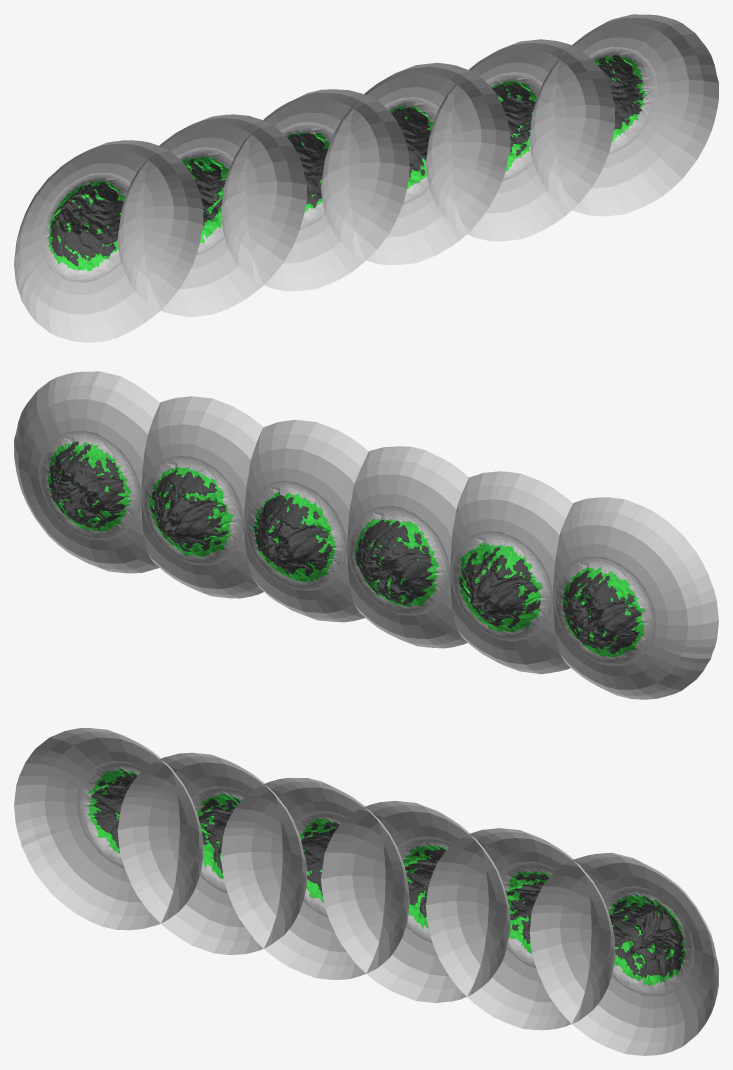
File: Islands 3 (LOD 1).fbx
3 renders of one model, top to bottom at view 1: azimuth 30°, elevation 25°; view 2: azimuth 150°, elevation 25°; view 3: azimuth 330°, elevation 25°, orthographic.
Visible parts, largest first — view 1: Volcano (LOD 1) 2, Volcano (LOD 1) 6, Volcano (LOD 1) 1, Volcano (LOD 1) 3, Volcano (LOD 1) 5, Volcano (LOD 1) 4; view 2: Volcano (LOD 1) 2, Volcano (LOD 1) 6, Volcano (LOD 1) 1, Volcano (LOD 1) 3, Volcano (LOD 1) 5, Volcano (LOD 1) 4; view 3: Volcano (LOD 1) 6, Volcano (LOD 1) 2, Volcano (LOD 1) 1, Volcano (LOD 1) 3, Volcano (LOD 1) 5, Volcano (LOD 1) 4.
Boxes of the visible parts, box(x1,y1,x2,y2) form: Volcano (LOD 1) 2: box(14, 140, 203, 342); Volcano (LOD 1) 6: box(529, 14, 718, 216); Volcano (LOD 1) 1: box(426, 39, 614, 241); Volcano (LOD 1) 3: box(117, 114, 306, 317); Volcano (LOD 1) 5: box(321, 62, 510, 265); Volcano (LOD 1) 4: box(220, 89, 409, 291); Volcano (LOD 1) 2: box(553, 497, 718, 699); Volcano (LOD 1) 6: box(14, 371, 159, 573); Volcano (LOD 1) 1: box(141, 396, 263, 598); Volcano (LOD 1) 3: box(450, 471, 572, 674); Volcano (LOD 1) 5: box(244, 419, 368, 622); Volcano (LOD 1) 4: box(347, 446, 468, 648); Volcano (LOD 1) 6: box(529, 852, 718, 1055); Volcano (LOD 1) 2: box(14, 728, 203, 930); Volcano (LOD 1) 1: box(425, 828, 614, 1030); Volcano (LOD 1) 3: box(117, 752, 306, 954); Volcano (LOD 1) 5: box(321, 800, 510, 1002); Volcano (LOD 1) 4: box(220, 778, 409, 979).
Bounding box in the file's own units: 1369 × 372 × 139.
